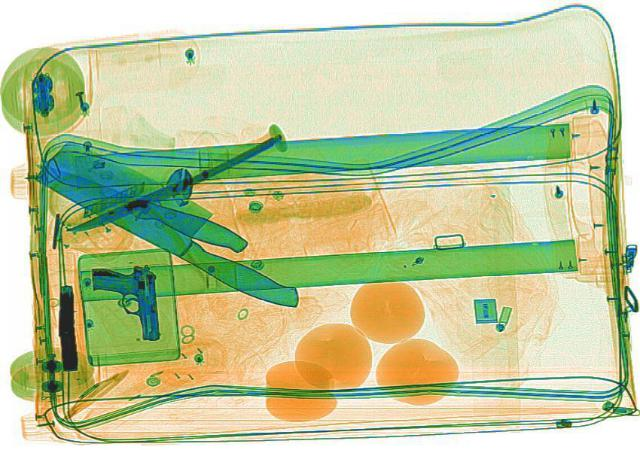Gun: (89, 261, 159, 338), (54, 282, 76, 367)
Knife: (19, 134, 334, 312), (26, 153, 252, 255), (62, 136, 282, 236)
